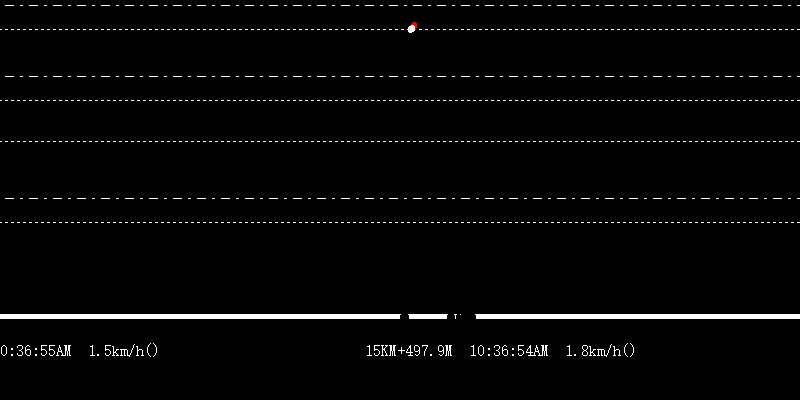face_s: (403, 21, 420, 33)
